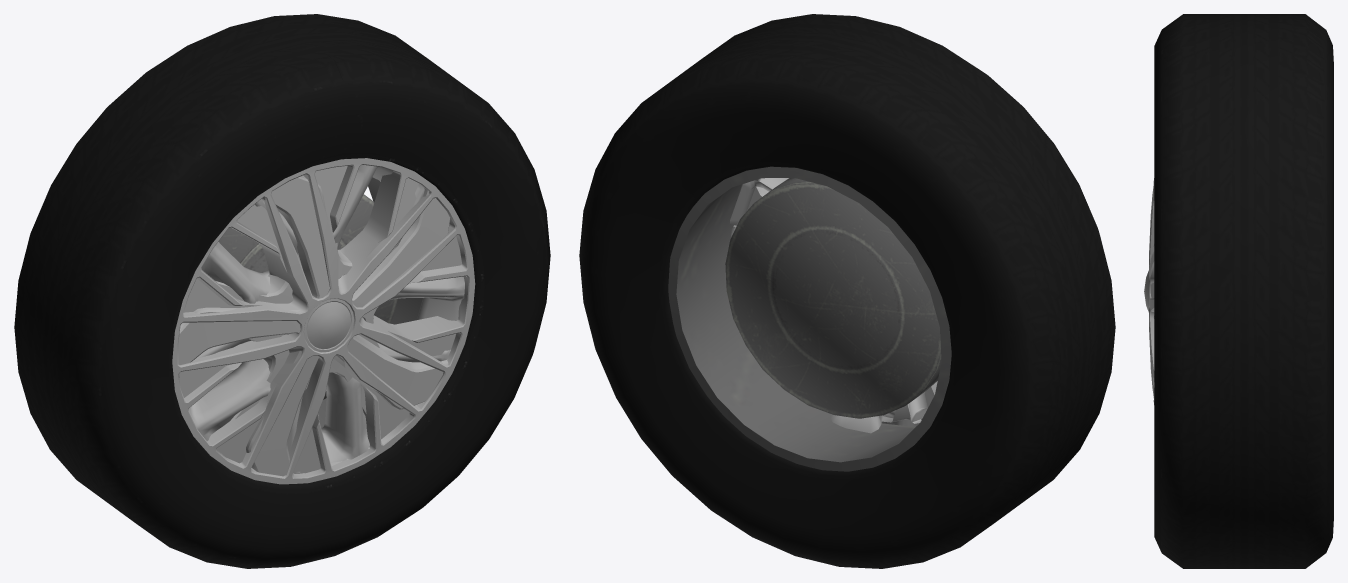
File: song_wheel.fbx
The picture shows the model from 3 angles, left to right: view 1: azimuth 30°, elevation 25°; view 2: azimuth 150°, elevation 25°; view 3: azimuth 270°, elevation 25°; orthographic projection.
Parts seen in each view (by area): view 1: Wheel01, Wheel03, Wheel02; view 2: Wheel01; view 3: Wheel01, Wheel03.
Boxes of the visible parts, x1,y1,x2,y2 form: Wheel01: (14,14,550,568); Wheel03: (172,158,475,484); Wheel02: (178,175,460,476); Wheel01: (579,14,1115,568); Wheel01: (1154,14,1333,568); Wheel03: (1144,178,1154,404).
Size of the model in its own units: 73.07 by 72.76 by 24.98.
